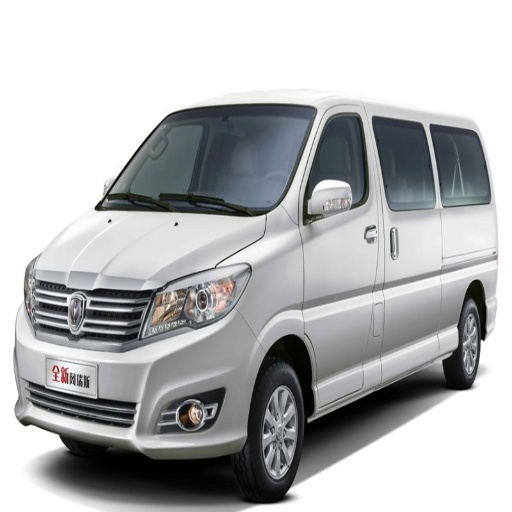front_bumper: (15, 276, 264, 458)
front_glass: (96, 106, 315, 213)
front_left_door: (301, 108, 382, 402)
trunk: (392, 208, 498, 340)
